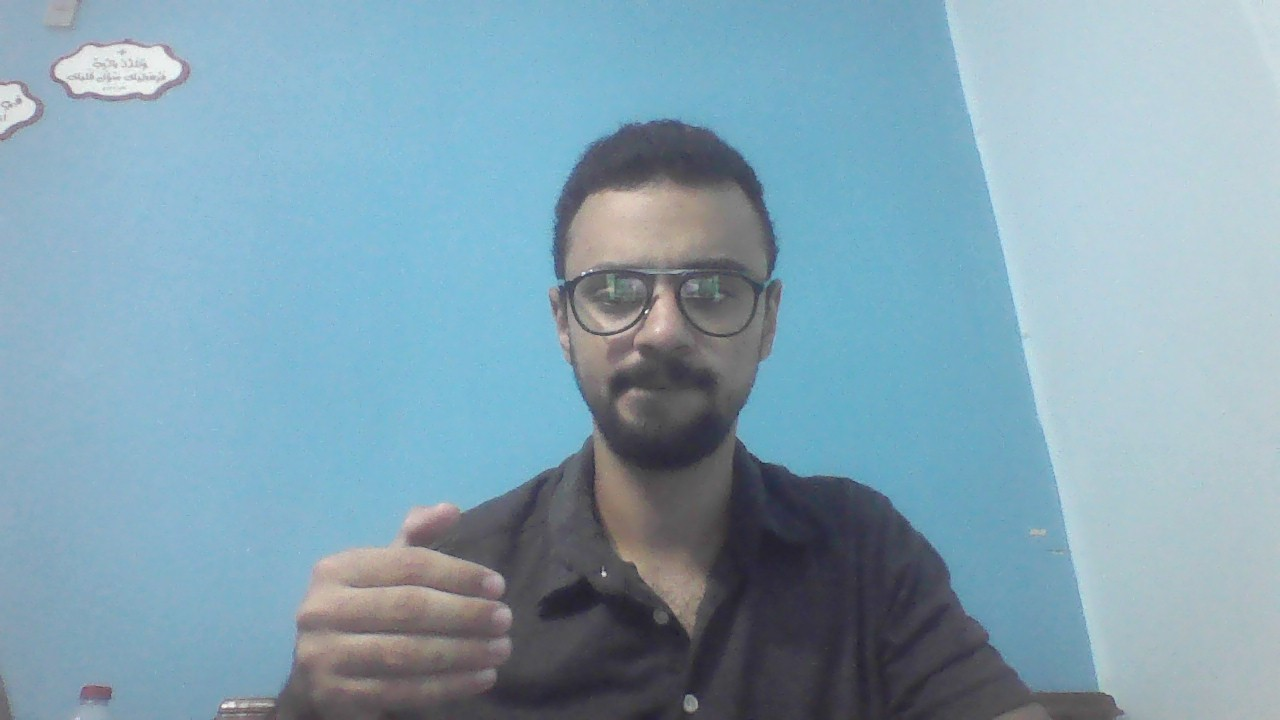drink: (289, 502, 519, 709)
